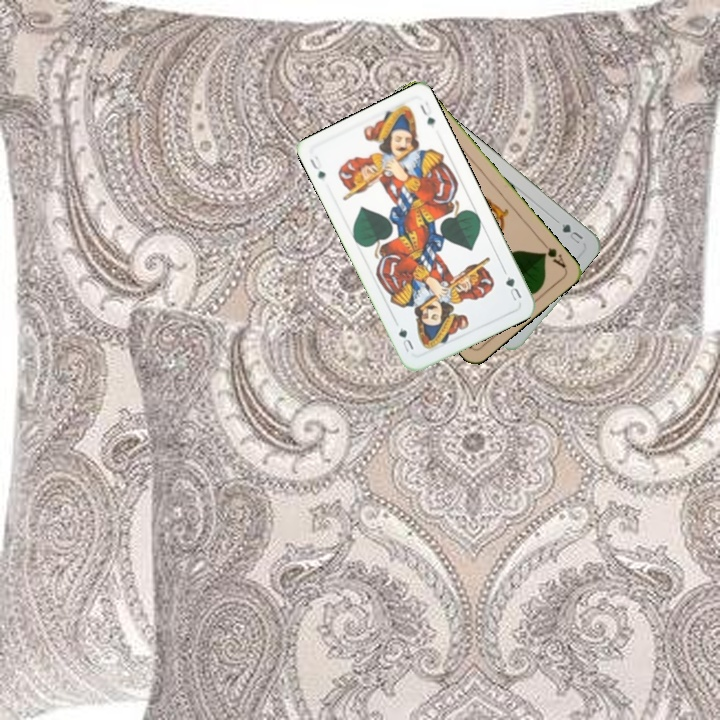GA: (537, 237, 568, 271)
GU: (552, 216, 586, 246), (500, 266, 524, 304), (306, 152, 328, 182)
